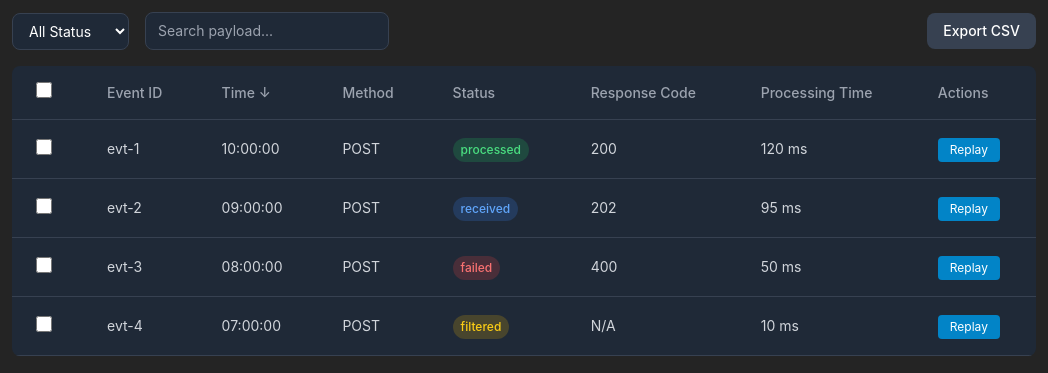
WebhookEventHistory › Filtering › should filter events by payload search term
expect the text "evt-1" is shown: met, box [83, 120, 198, 178]
Type "filtered" into the field with placeholder "Search payload..." at coordinates (267, 31), box [145, 12, 389, 50]
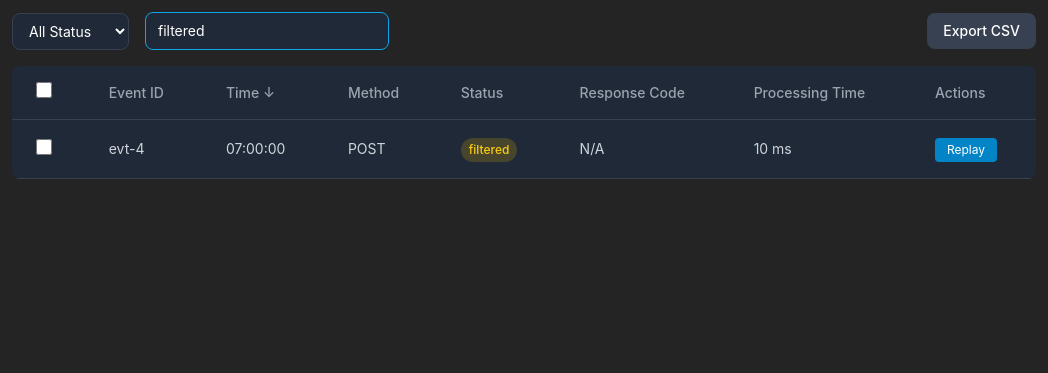
expect the text "evt-1" is gone: met
expect the text "evt-2" is gone: met
expect the text "evt-3" is gone: met
